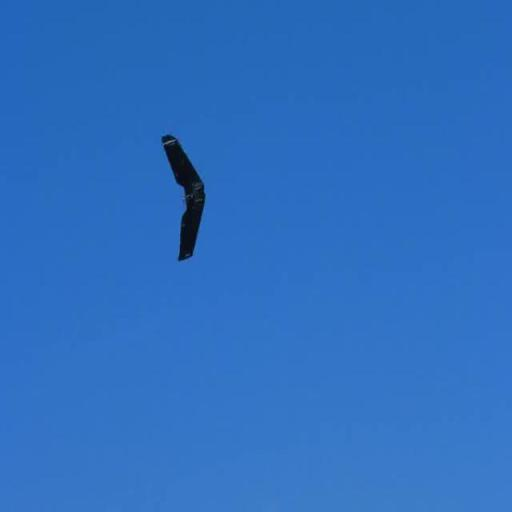uav: (160, 128, 210, 268)
